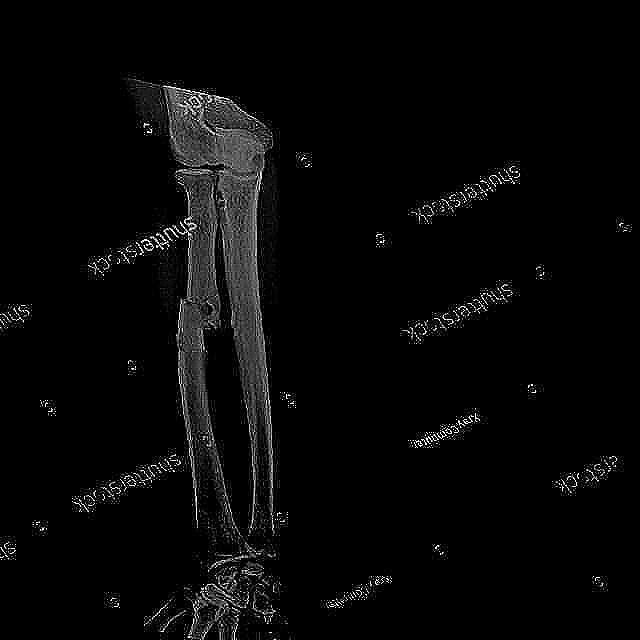bone: (174, 285, 222, 359)
